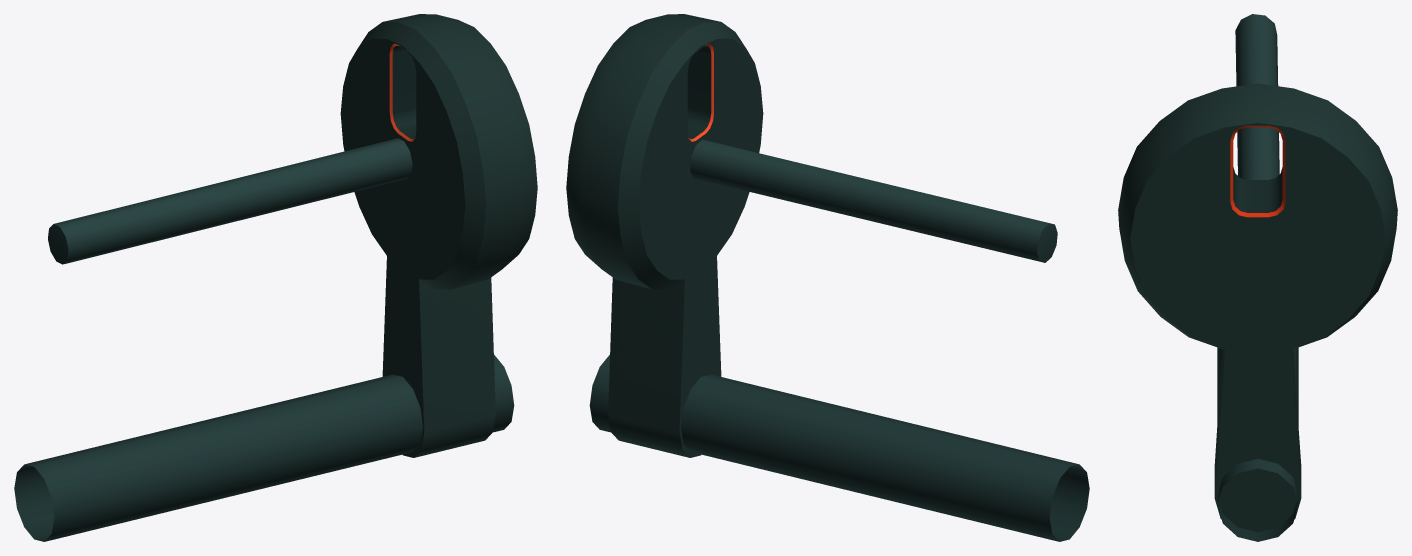
File: Pistol5_Crane.fbx
3 renders of one model, left to right at view 1: azimuth 30°, elevation 25°; view 2: azimuth 150°, elevation 25°; view 3: azimuth 270°, elevation 25°, orthographic.
Visible parts, largest first — view 1: Pistol5_Crane; view 2: Pistol5_Crane; view 3: Pistol5_Crane.
Boxes of the visible parts, x1,y1,x2,y2 form: Pistol5_Crane: (14,14,537,541); Pistol5_Crane: (566,14,1089,541); Pistol5_Crane: (1118,14,1397,541).
Bounding box in the file's own units: 9.4 × 8.24 × 4.9.
